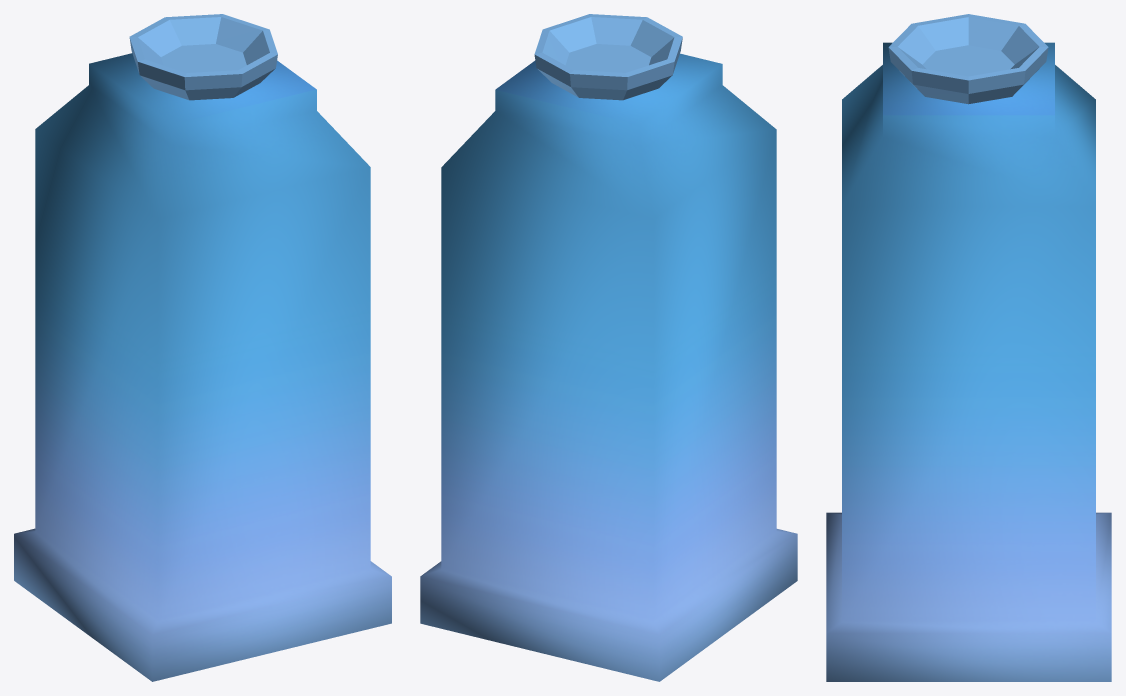
Rendered from zhuzi_1.FBX.
3 renders of one model, left to right at view 1: azimuth 30°, elevation 25°; view 2: azimuth 150°, elevation 25°; view 3: azimuth 270°, elevation 25°, orthographic. The views are drawn at different scales.
Parts seen in each view (by area): view 1: Object271; view 2: Object271; view 3: Object271.
Part boxes in pixels (box(x1,y1,x2,y2)): Object271: box(14, 14, 391, 681); Object271: box(420, 14, 797, 681); Object271: box(826, 14, 1111, 681).
Bounding box in the file's own units: 195 × 434 × 195.
